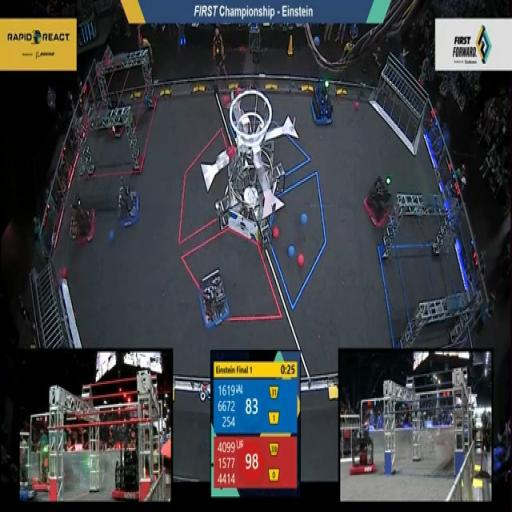robot: (111, 164, 143, 230), (196, 269, 230, 331), (361, 171, 397, 229), (66, 188, 97, 252), (307, 70, 340, 129)
